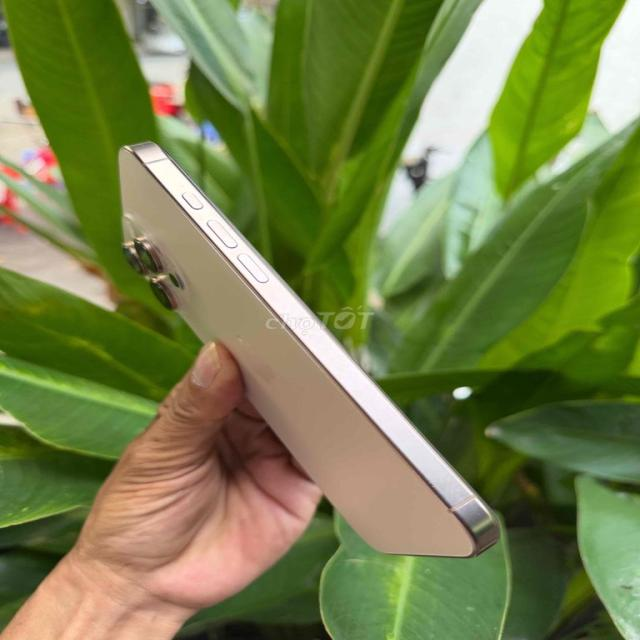gen_16: (119, 142, 498, 558)
